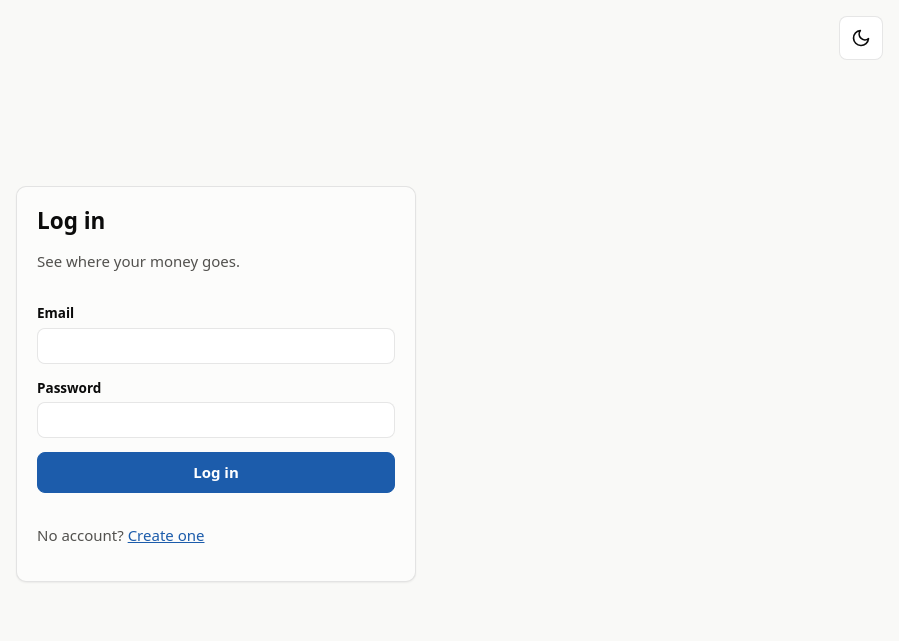
Test case: LoginPage › shows the backend message for wrong credentials
In the field labelled "Email": (216, 346) [37,328,395,364], type "a@b.co"
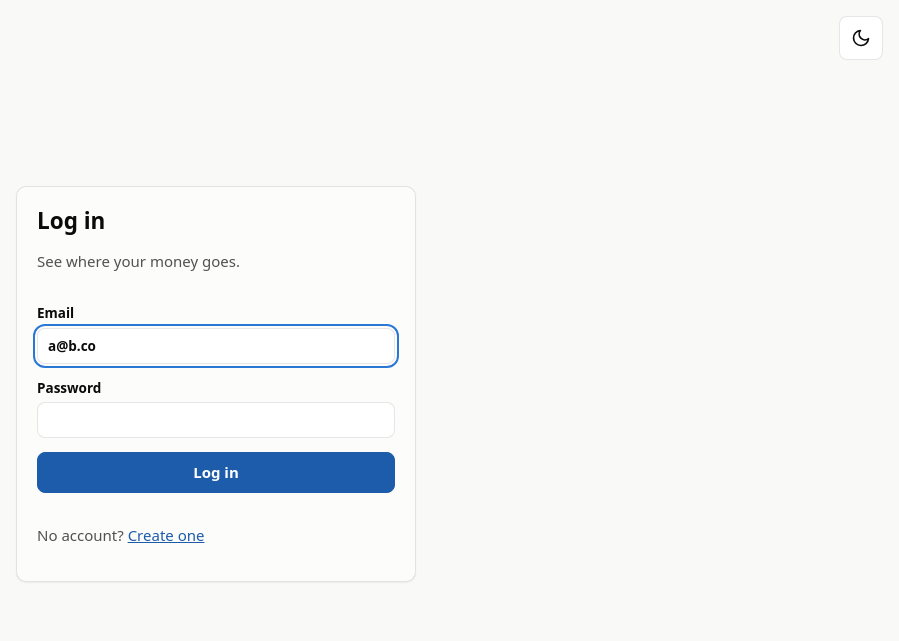
In the password field labelled "Password": (216, 420) [37,402,395,438], type "wrong-password"
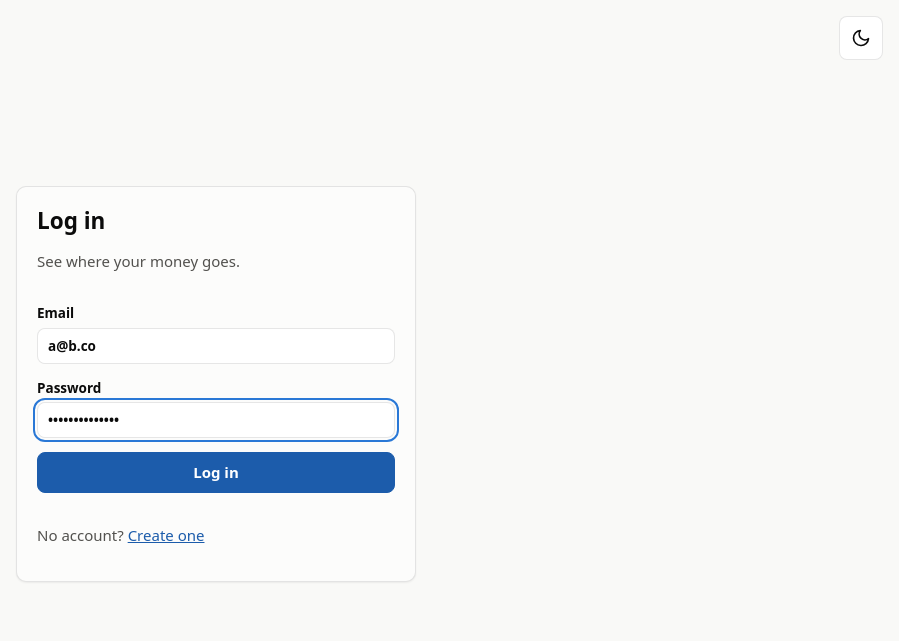
Click the button "Log in": click(216, 473) [37,452,395,493]
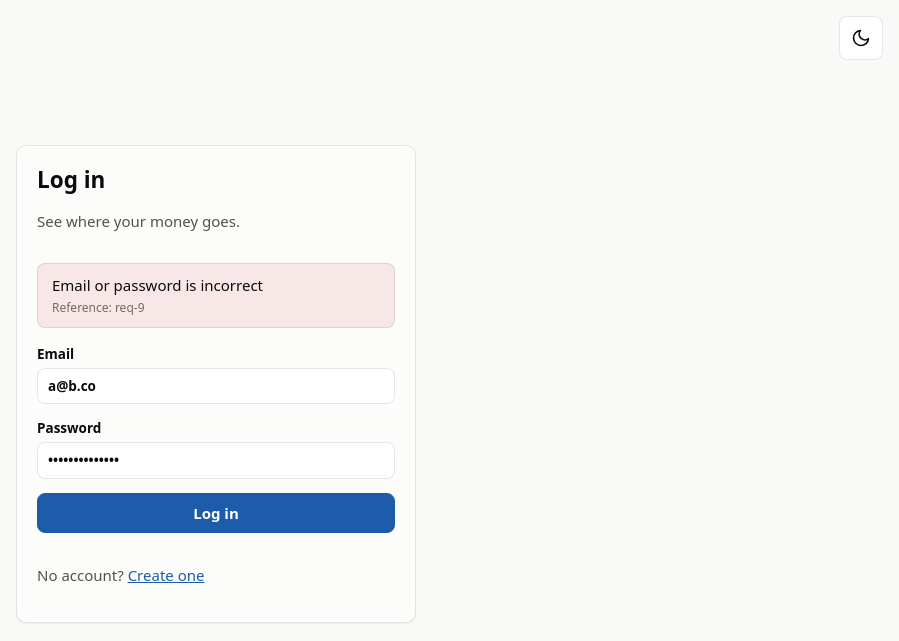
expect the message shows "Email or password is incorrect": met, box [52,275,263,295]
expect the message shows "req-9": met, box [115,299,144,316]
